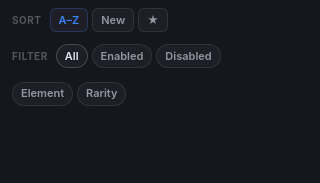
it: FilterPanel Component › toggles dropdown on click
This screenshot has width=320, height=183.
expect the text "Pyro" is not shown: met
Click the button "Element": (43, 94) [12,82,73,106]
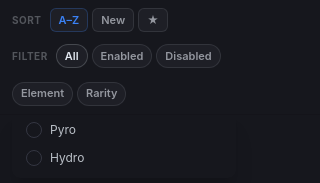
expect the text "Pyro" is shown: met, box [50,122,76,138]
Click the button "Element": (43, 94) [12,82,73,106]
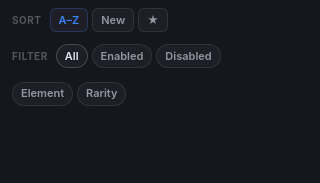
expect the text "Pyro" is gone: met
